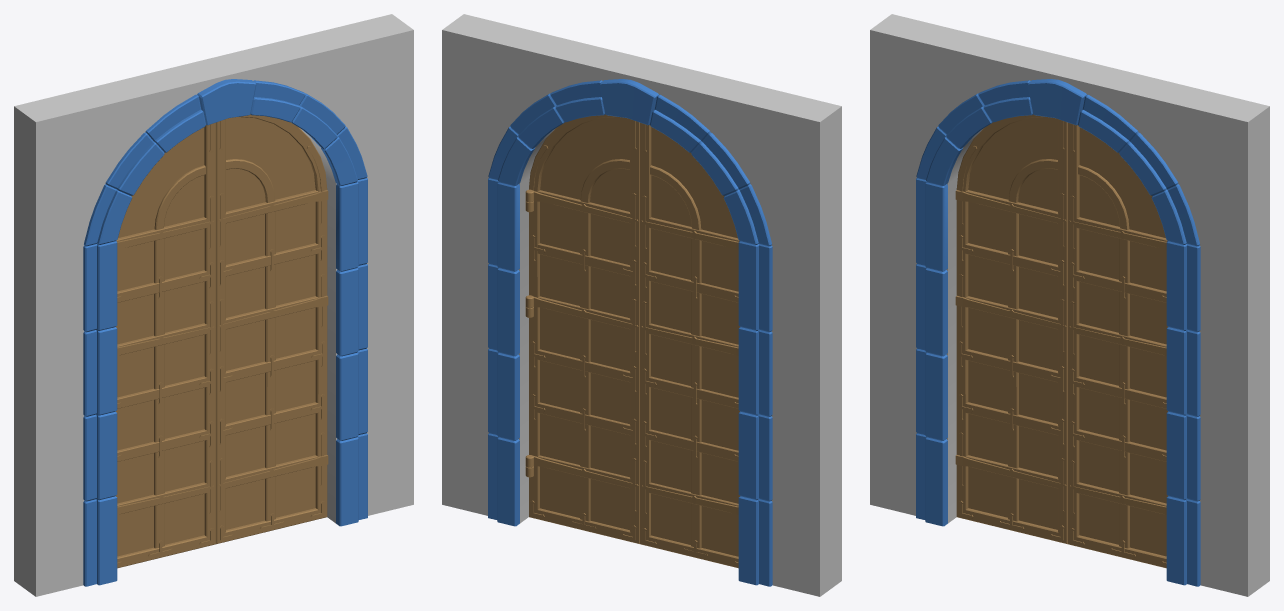
The model's file is dfk_gate_small.fbx.
3 renders of one model, left to right at view 1: azimuth 30°, elevation 25°; view 2: azimuth 150°, elevation 25°; view 3: azimuth 330°, elevation 25°, orthographic.
Visible parts, largest first — view 1: GateArch_small, Gate_02_Export.001, Gate_02_Export; view 2: GateArch_small, Gate_02_Export.001, Gate_02_Export; view 3: GateArch_small, Gate_02_Export, Gate_02_Export.001.
Boxes of the visible parts, left/top/right/bottom form: GateArch_small: left=14, top=14, right=413, bottom=596; Gate_02_Export.001: left=216, top=114, right=328, bottom=544; Gate_02_Export: left=116, top=122, right=215, bottom=568; GateArch_small: left=442, top=14, right=841, bottom=596; Gate_02_Export.001: left=525, top=114, right=639, bottom=543; Gate_02_Export: left=640, top=122, right=739, bottom=568; GateArch_small: left=870, top=14, right=1269, bottom=596; Gate_02_Export: left=955, top=114, right=1067, bottom=544; Gate_02_Export.001: left=1068, top=122, right=1167, bottom=568.
Size of the model in its own units: 5 by 6 by 0.6967.
